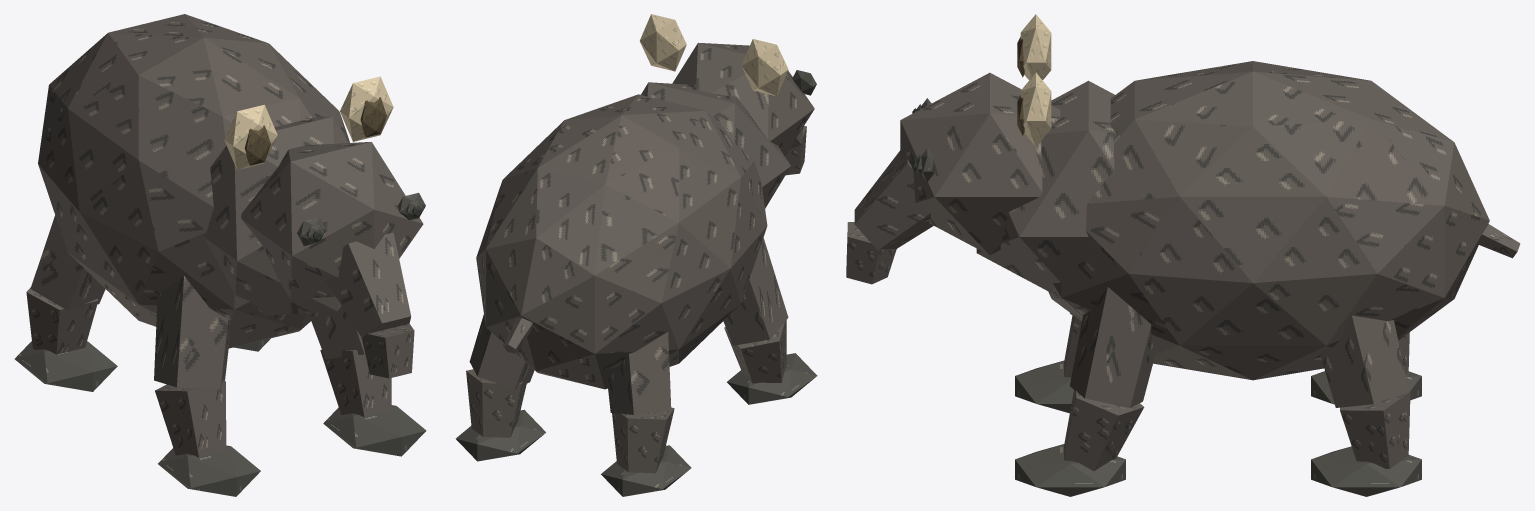
Rendered from animal-anta-v01.gltf.
3 views of the same model, side by side, from view 1: azimuth 30°, elevation 25°; view 2: azimuth 150°, elevation 25°; view 3: azimuth 270°, elevation 25° (orthographic). The views are drawn at different scales.
Parts seen in each view (by area): view 1: corpo, cabeca, perna-frente-esquerda, perna-tras-esquerda, perna-frente-direita; view 2: corpo, cabeca, perna-tras-esquerda, perna-frente-esquerda, perna-tras-direita, cauda; view 3: corpo, cabeca, perna-frente-direita, perna-tras-direita, perna-frente-esquerda, perna-tras-esquerda, cauda.
Part boxes in pixels (x1,y1,x2,y2): corpo: [38, 14, 349, 348]; cabeca: [224, 76, 425, 378]; perna-frente-esquerda: [154, 276, 260, 496]; perna-tras-esquerda: [14, 215, 117, 391]; perna-frente-direita: [311, 306, 426, 456]; corpo: [476, 82, 790, 389]; cabeca: [640, 14, 816, 175]; perna-tras-esquerda: [601, 332, 691, 496]; perna-frente-esquerda: [723, 238, 817, 404]; perna-tras-direita: [455, 314, 545, 461]; cauda: [503, 318, 532, 353]; corpo: [976, 61, 1489, 380]; cabeca: [846, 14, 1060, 284]; perna-frente-direita: [1015, 287, 1155, 496]; perna-tras-direita: [1311, 315, 1421, 496]; perna-frente-esquerda: [1015, 313, 1081, 413]; perna-tras-esquerda: [1311, 332, 1421, 404]; cauda: [1478, 224, 1520, 258].
Bounding box in the file's own units: 0.9 × 1.32 × 2.05.
1 material, 1 textured.
